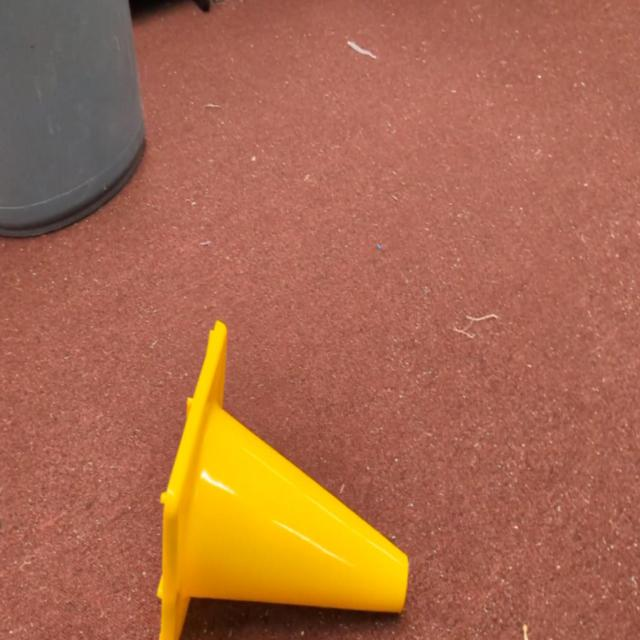frc_cone: (157, 322, 409, 639)
